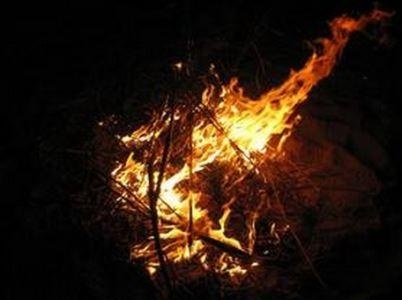fire: (120, 67, 305, 277)
